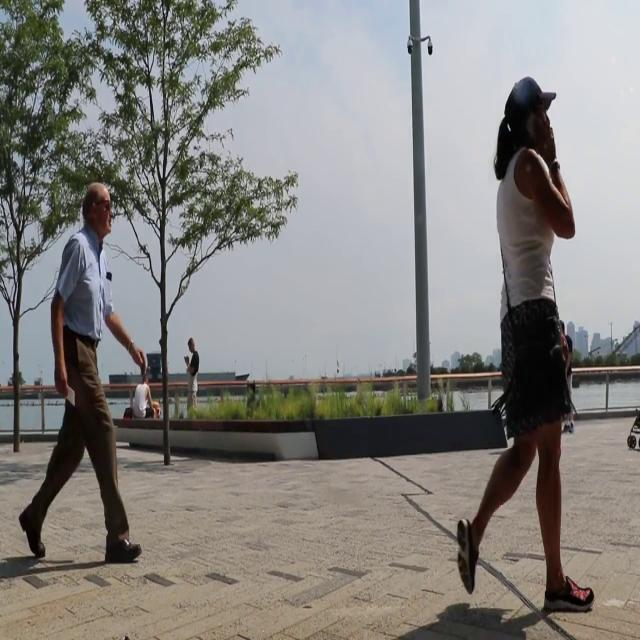normal: (456, 70, 600, 627), (21, 174, 151, 571)
